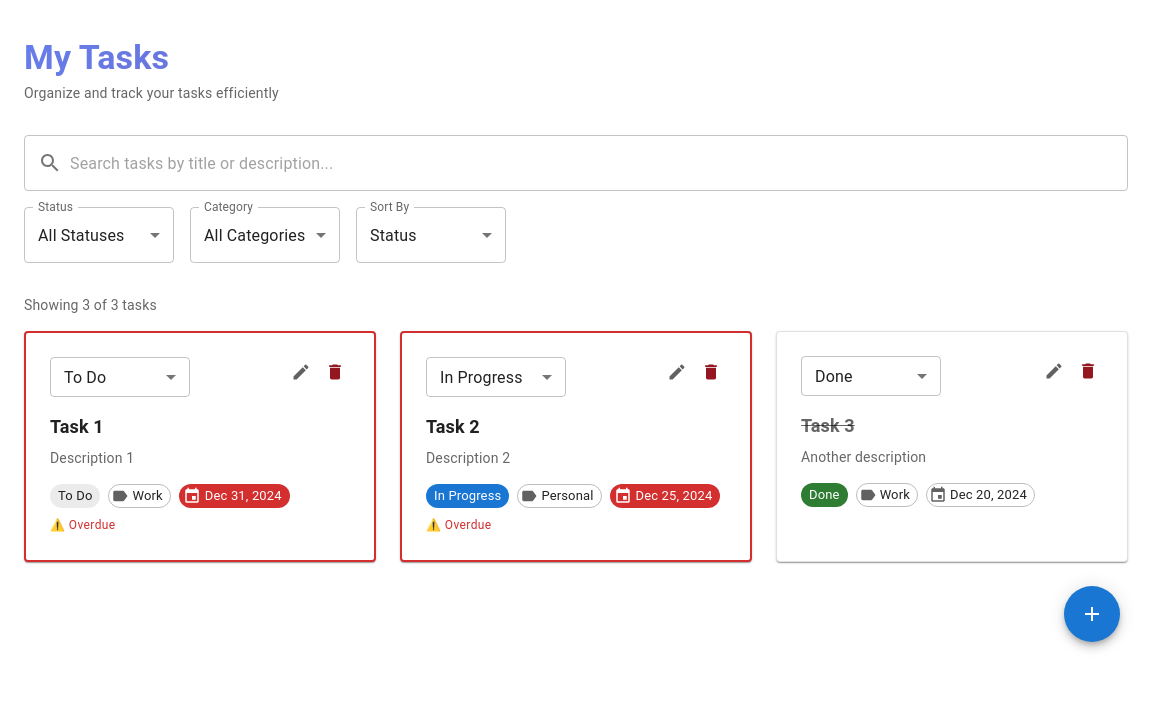
TaskList › Create Task › should create task and reload list
Expected: the heading "Task 1" is shown, [50,416,104,437]
Click the button named "add task".
click(1092, 614)  # box [1064,586,1120,642]
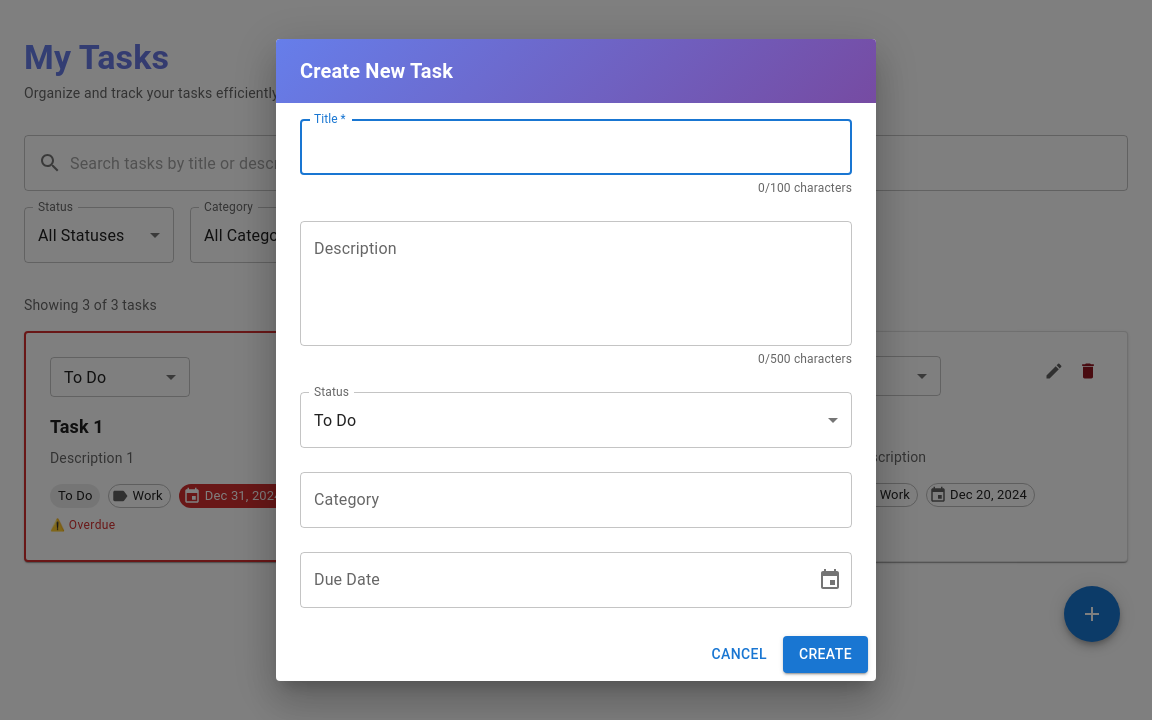
Now the heading "Create New Task" is shown, box [276,39,876,103]
Note: Fill and submit form
Type "New Task" into the field labelled "Title *".
click(576, 147); type("New Task")  # box [300,119,852,175]
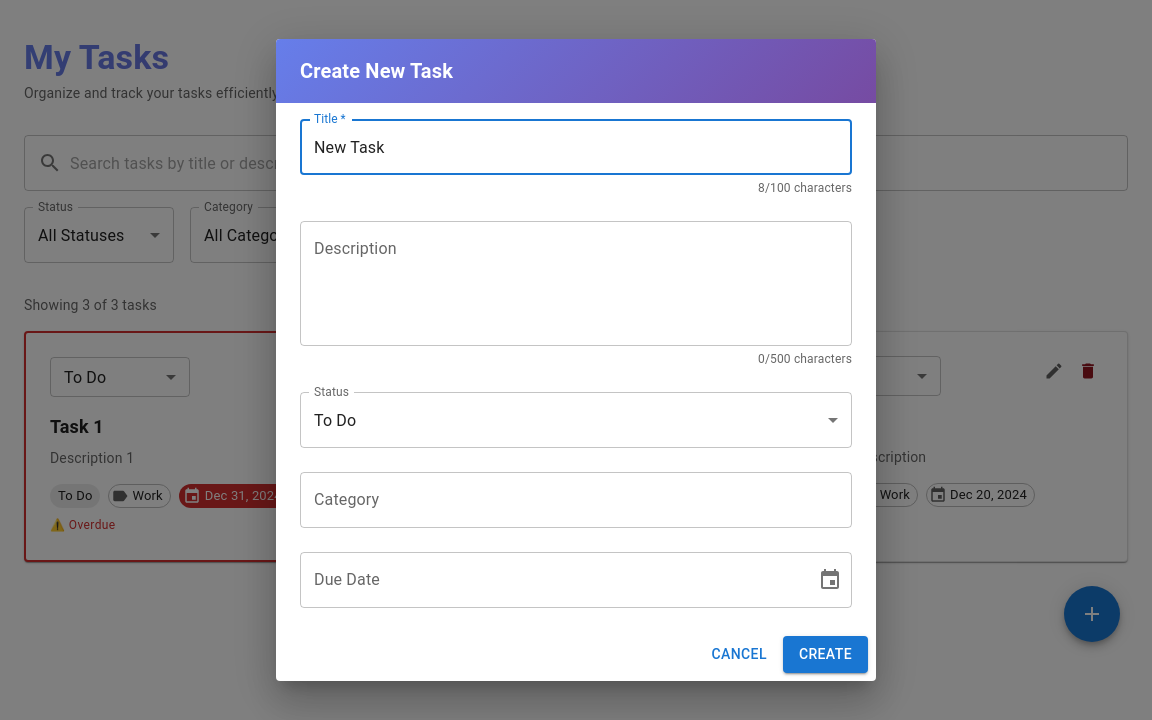
Click the button "Create".
click(825, 655)  # box [783,636,868,673]
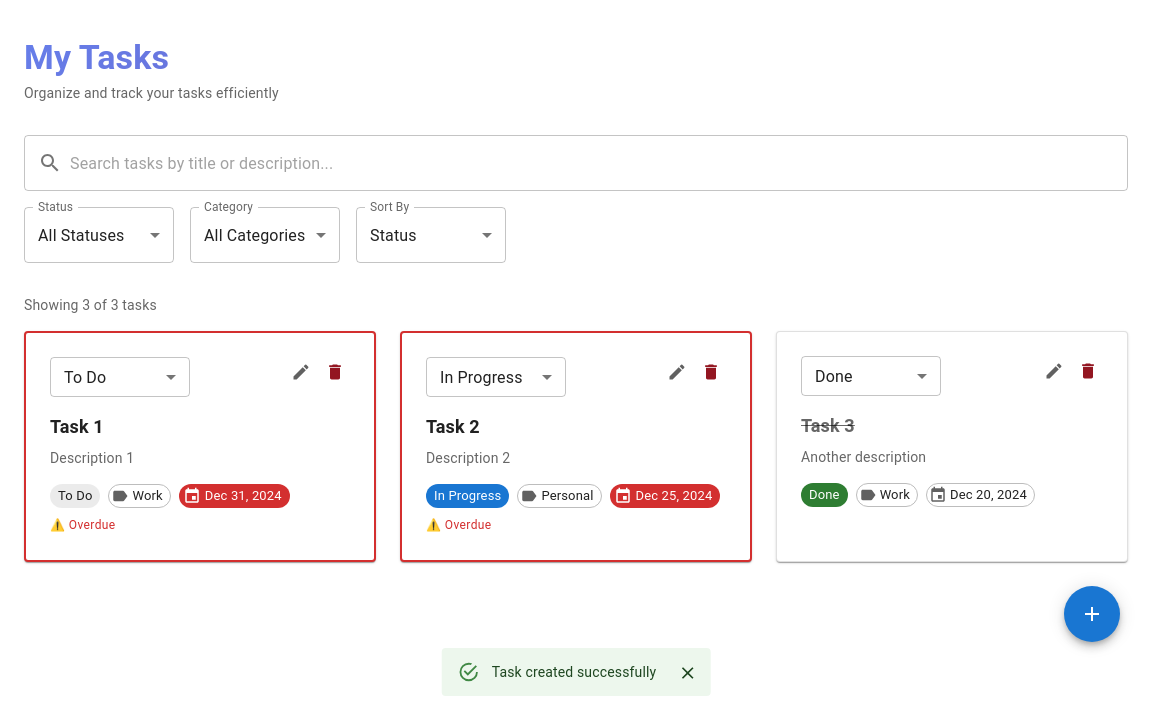
Now the text "Task created successfully" is shown, box [492,664,656,680]
